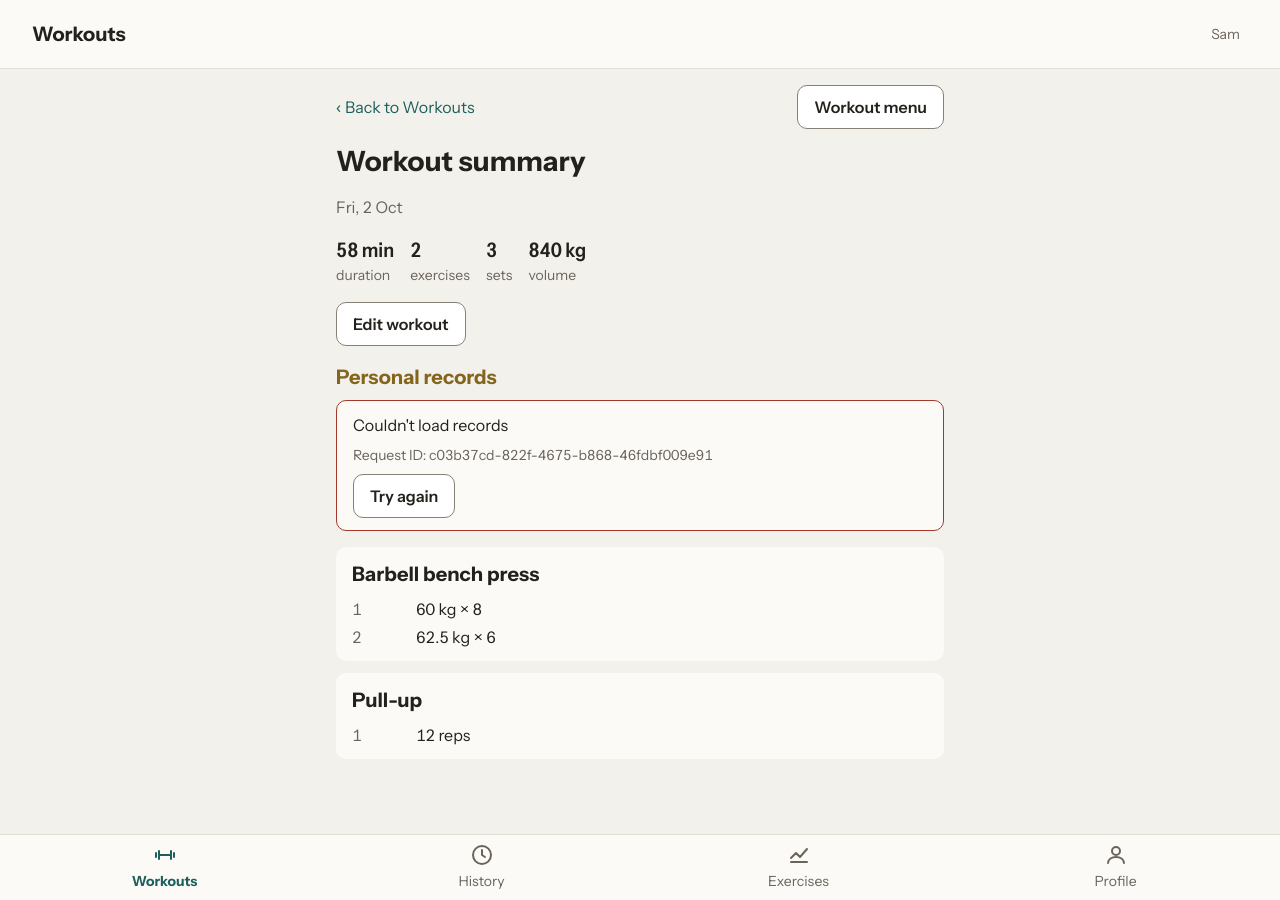
Test case: 08.0 AC19 — the summary never waits on records › renders the exercises while records are pending, and keeps everything usable when they fail
Check: the element "Barbell bench press" is shown, box [336, 547, 944, 661]
Check: the message shows "Couldn't load records", box [353, 415, 508, 435]
Click the button "Workout menu".
click(871, 107)  # box [797, 85, 944, 129]
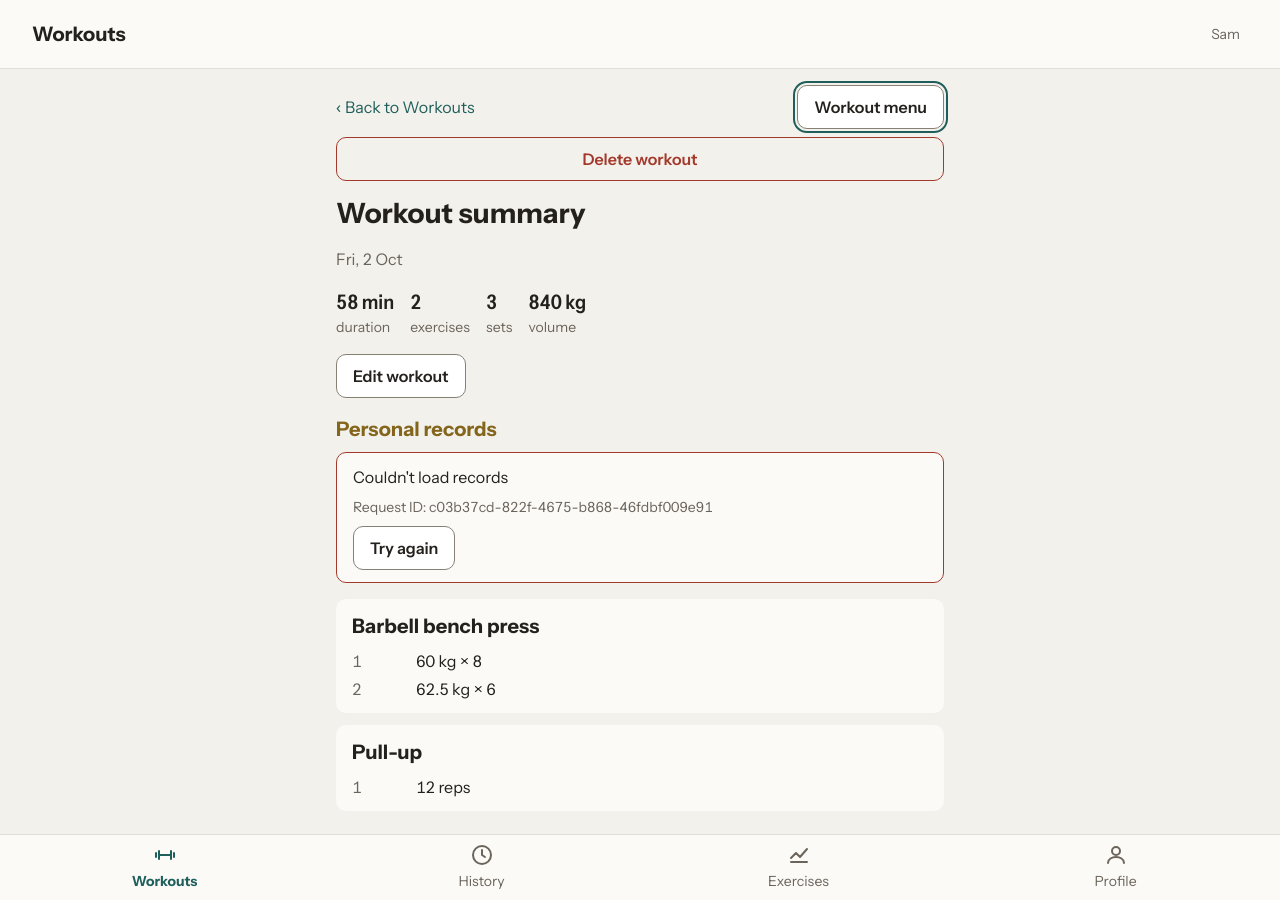
Check: the button "Delete workout" is enabled, box [336, 137, 944, 181]
